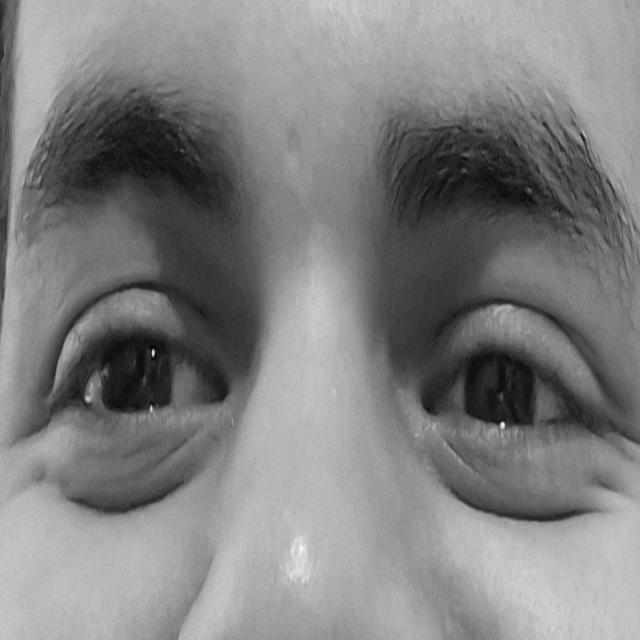real: (24, 112, 634, 584)
